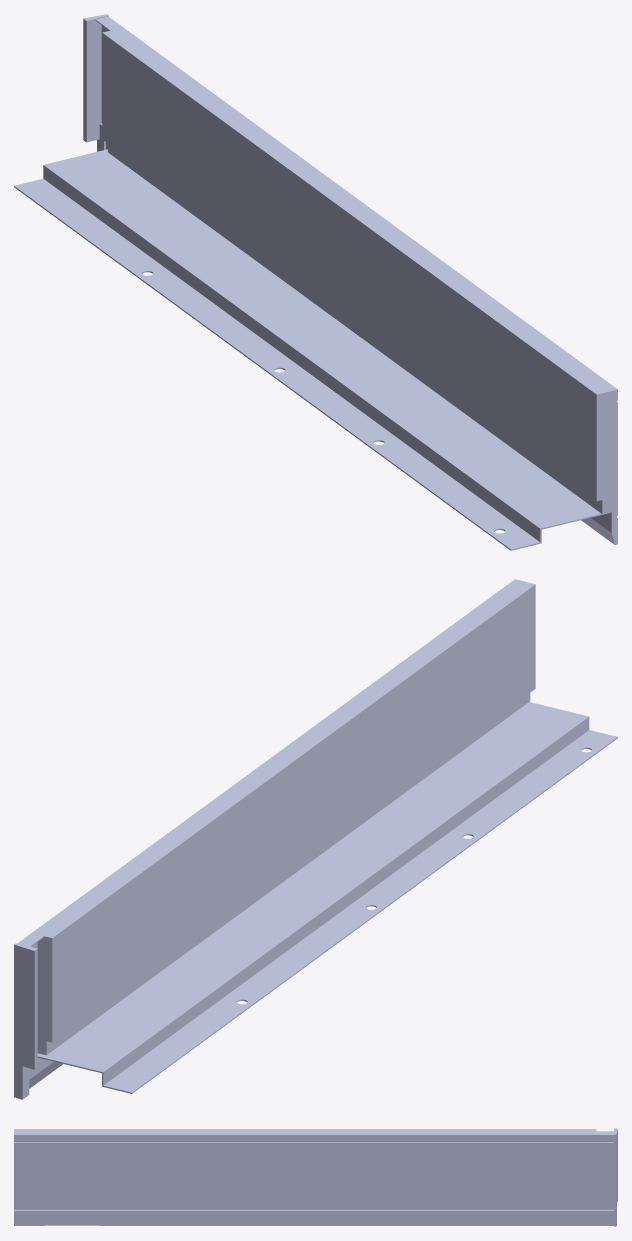
File: lg-kava-M550-m.glb
3 views of the same model, one above another, from view 1: azimuth 30°, elevation 25°; view 2: azimuth 150°, elevation 25°; view 3: azimuth 270°, elevation 25° (orthographic). The views are drawn at different scales.
Parts seen in each view (by area): view 1: 40283209; view 2: 40283209; view 3: 40283209.
Boxes of the visible parts, x1,y1,x2,y2 form: 40283209: [14, 14, 617, 550]; 40283209: [14, 579, 617, 1099]; 40283209: [14, 1128, 617, 1226].
Size of the model in its own units: 0.0653 by 0.0912 by 0.5435.
